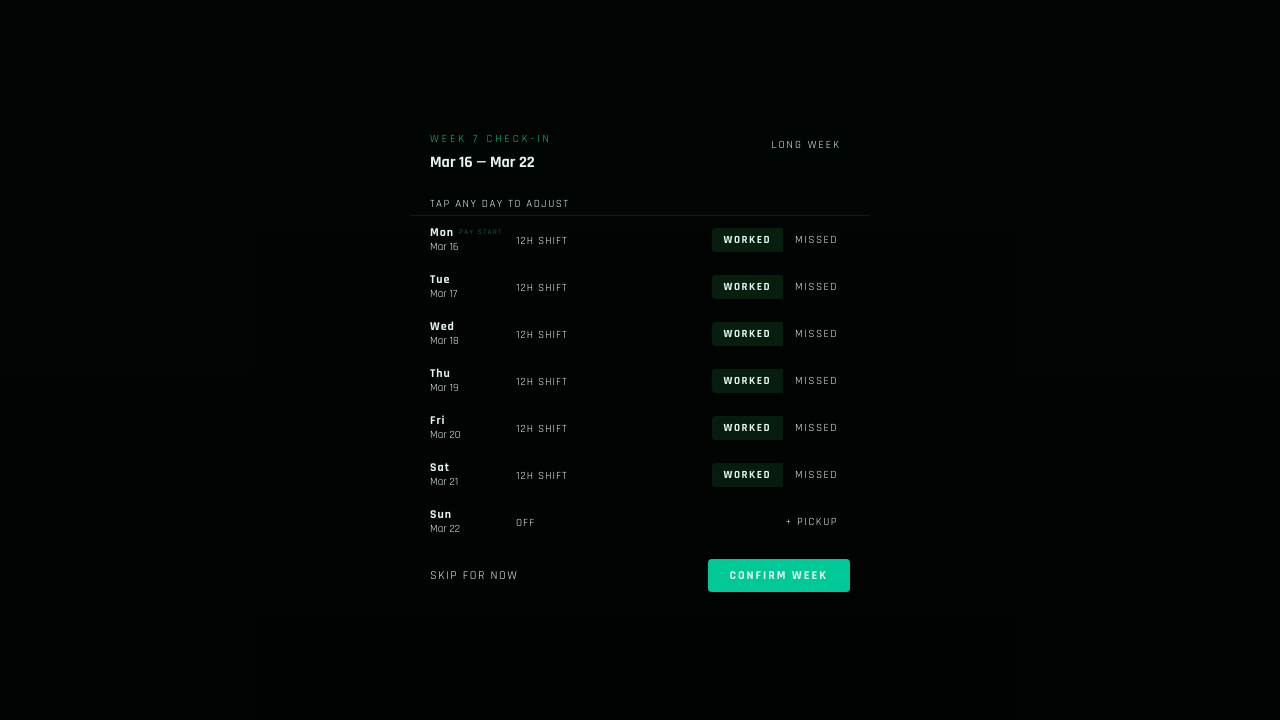
WeekConfirmModal — Layer 1 day toggles › shows negative net shift count in summary row
Step 1. Click the button "Missed" in the row of "pay start" → (816, 240), box [783,228,850,252]
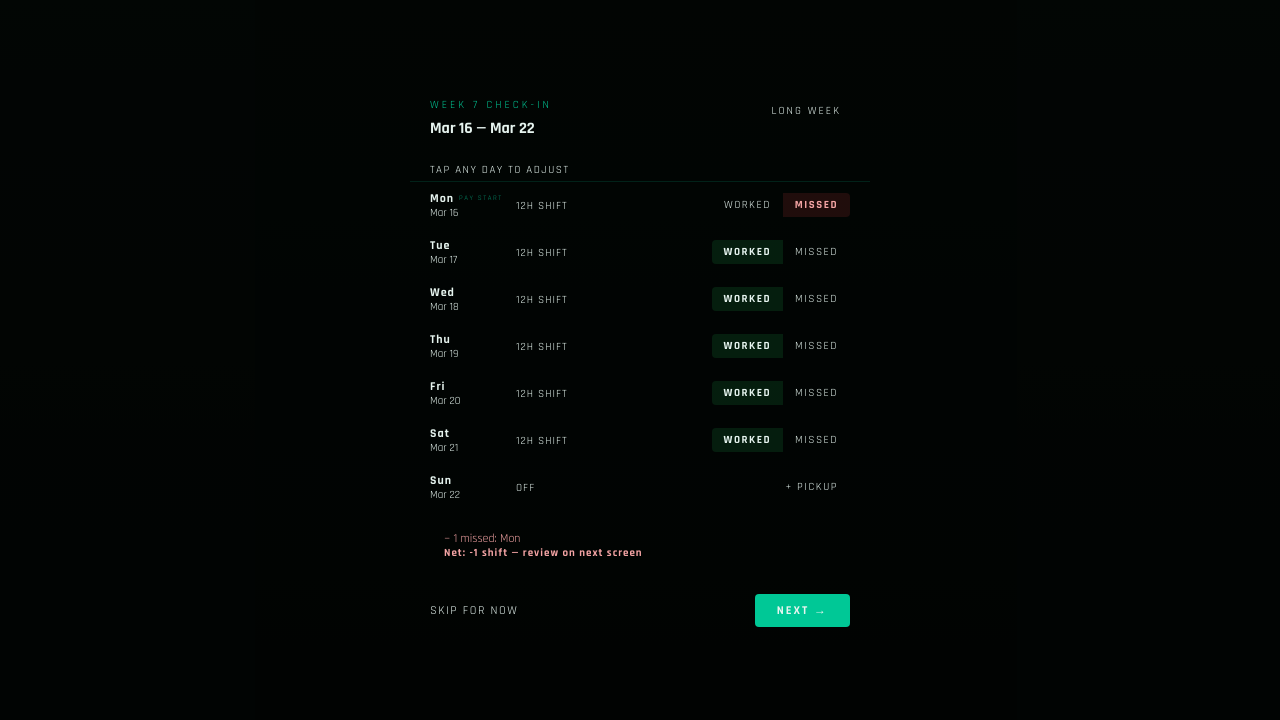
Step 2. Click the button "Missed" in the row of "Mar 17" → (816, 252), box [783,240,850,264]
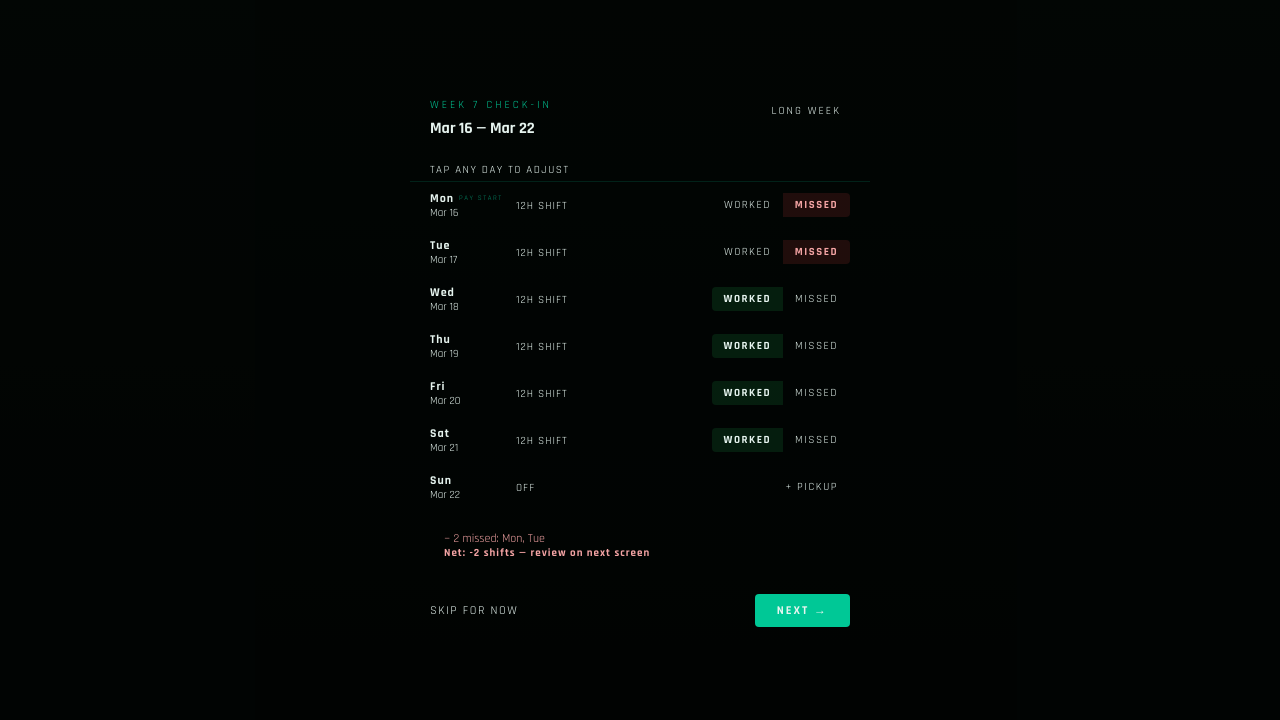
Expected: the text "Net: -2 shifts — review on next screen" is shown, [444,546,650,560]
